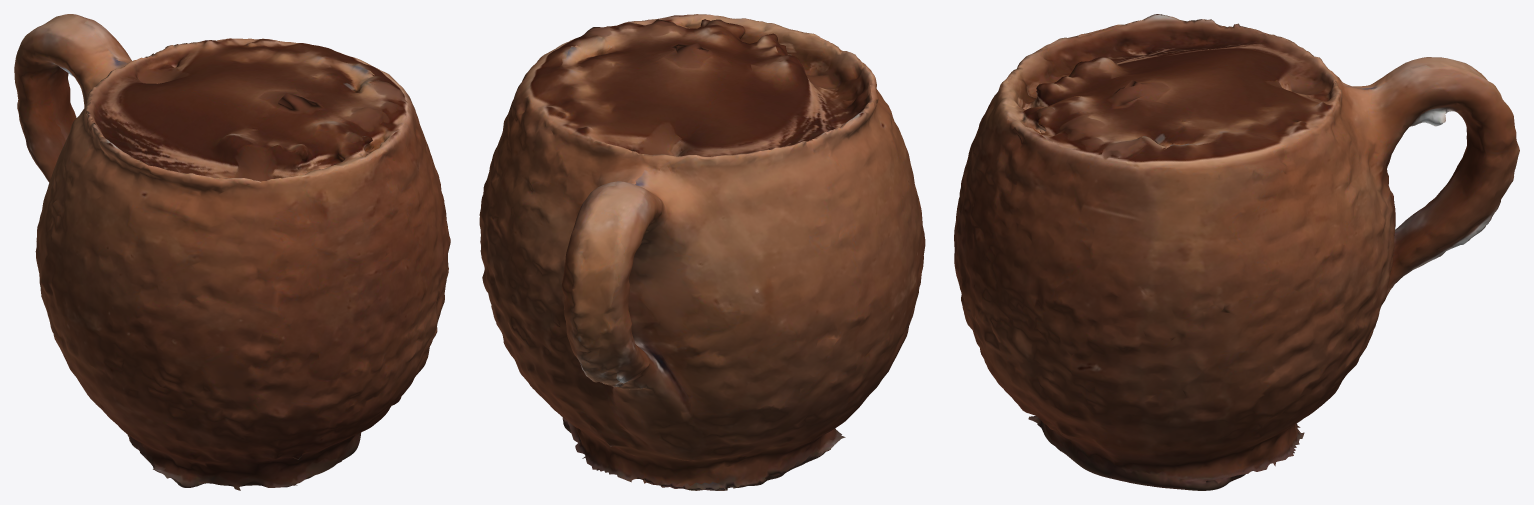
File: taza.glb
3 renders of one model, left to right at view 1: azimuth 30°, elevation 25°; view 2: azimuth 150°, elevation 25°; view 3: azimuth 270°, elevation 25°, orthographic. The views are drawn at different scales.
Parts seen in each view (by area): view 1: mainMeshNode; view 2: mainMeshNode; view 3: mainMeshNode.
Part boxes in pixels (box(x1,y1,x2,y2)): mainMeshNode: box(14, 14, 450, 490); mainMeshNode: box(479, 14, 925, 490); mainMeshNode: box(954, 14, 1519, 490).
Size of the model in its own units: 3.99 by 3.77 by 5.22.
1 material, 1 textured.
